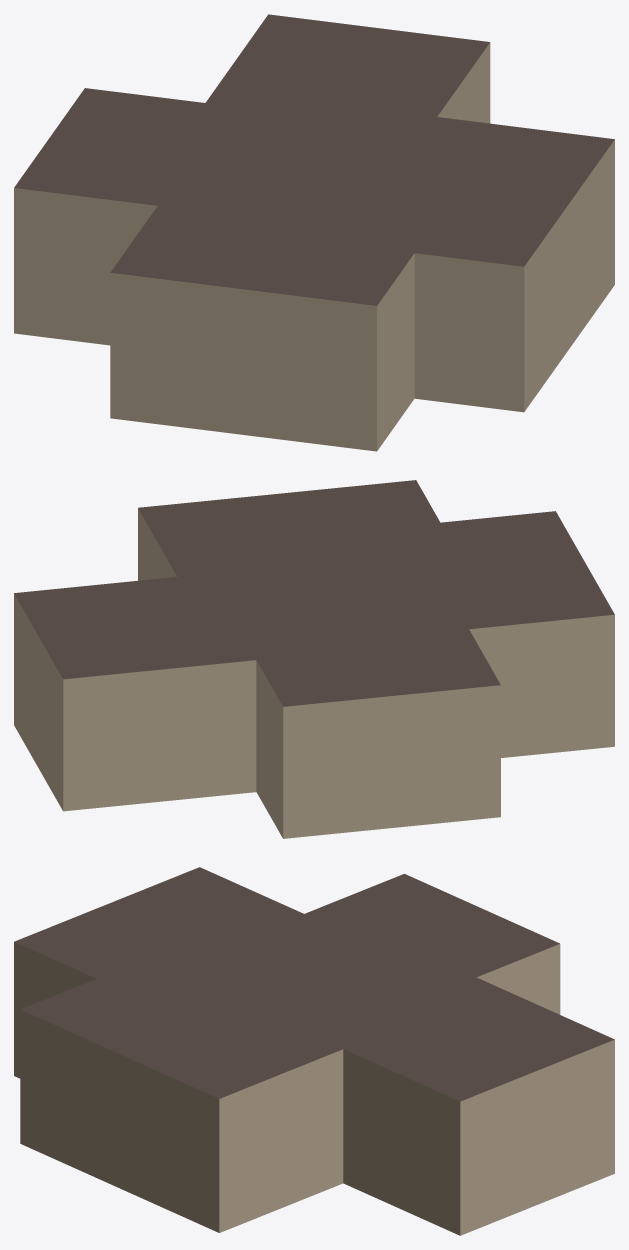
The picture shows the model from 3 angles, top to bottom: view 1: azimuth 30°, elevation 25°; view 2: azimuth 150°, elevation 25°; view 3: azimuth 270°, elevation 25°; orthographic projection. The views are drawn at different scales.
Parts seen in each view (by area): view 1: HP-w442103682; view 2: HP-w442103682; view 3: HP-w442103682.
Part boxes in pixels (<box>): HP-w442103682: <box>14,14,614,451</box>; HP-w442103682: <box>14,480,614,838</box>; HP-w442103682: <box>14,867,614,1235</box>.
Bounding box in the file's own units: 33.73 × 9 × 36.52.
